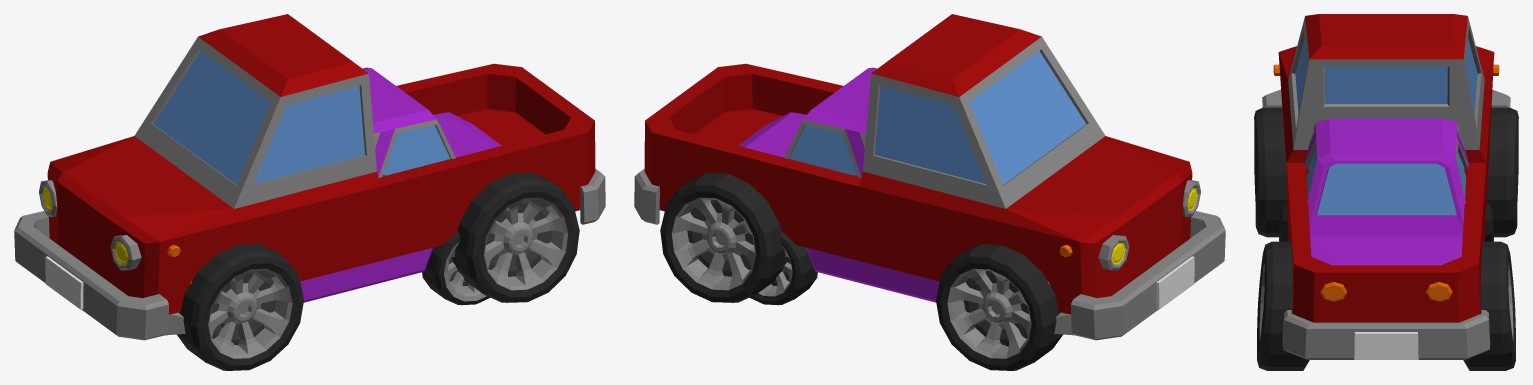
Rendered from Cars.fbx.
The picture shows the model from 3 angles, left to right: view 1: azimuth 30°, elevation 25°; view 2: azimuth 150°, elevation 25°; view 3: azimuth 270°, elevation 25°; orthographic projection.
Visible parts, largest first — view 1: Car-1, Car-2; view 2: Car-1, Car-2; view 3: Car-1, Car-2.
Part boxes in pixels (left/top/right/bottom): Car-1: left=14, top=14, right=605, bottom=370; Car-2: left=166, top=67, right=501, bottom=346; Car-1: left=634, top=14, right=1225, bottom=370; Car-2: left=738, top=67, right=1073, bottom=346; Car-1: left=1254, top=14, right=1518, bottom=370; Car-2: left=1279, top=118, right=1493, bottom=265.
Bounding box in the file's own units: 10.84 × 5.28 × 5.
